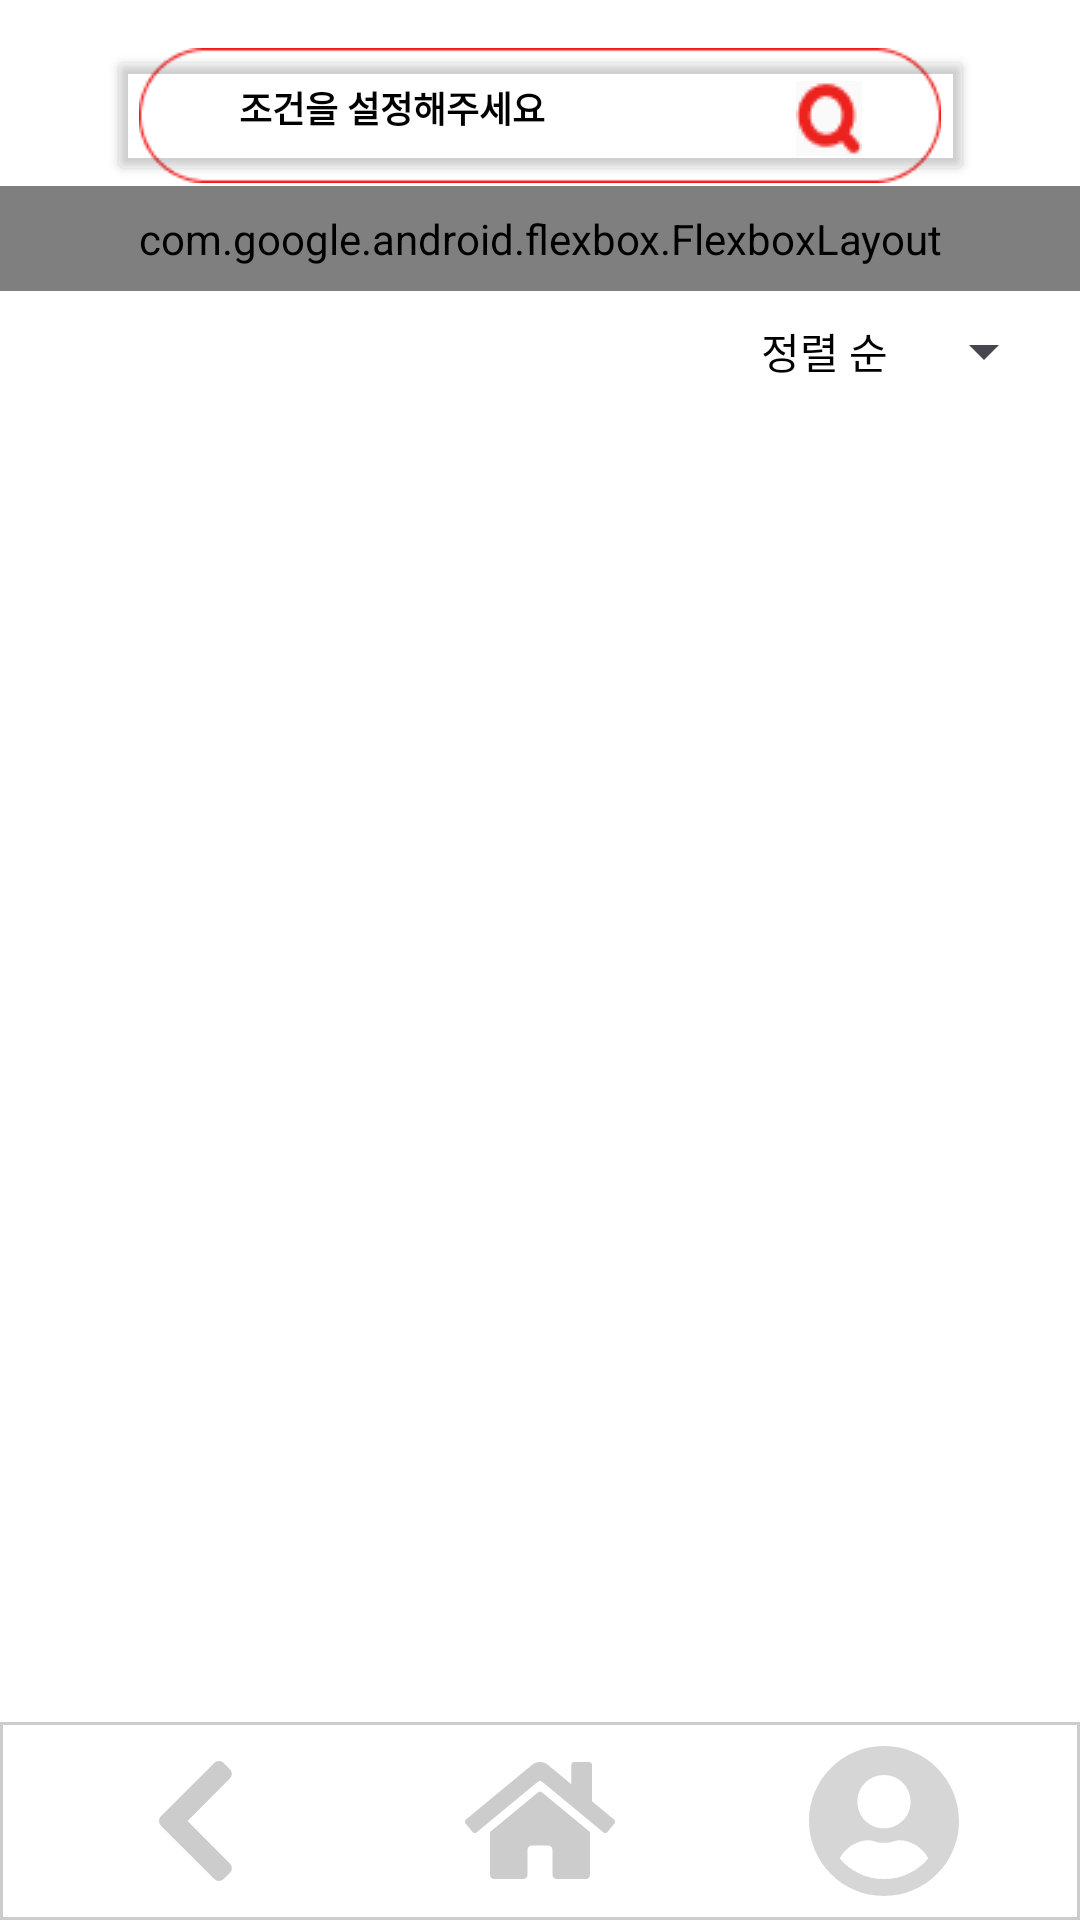

Named icons in this screenshot (1080px×1920px) and their bounding boxes, (x1, y1, x2, y2):
Back Button: (159, 1761, 232, 1881)
Home Button: (465, 1762, 615, 1879)
My Page Button: (809, 1746, 959, 1896)
